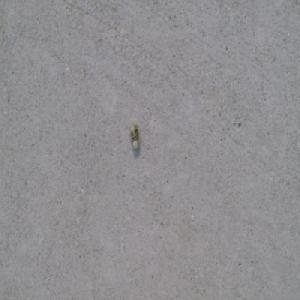BoltNutSet: (129, 122, 140, 148)
